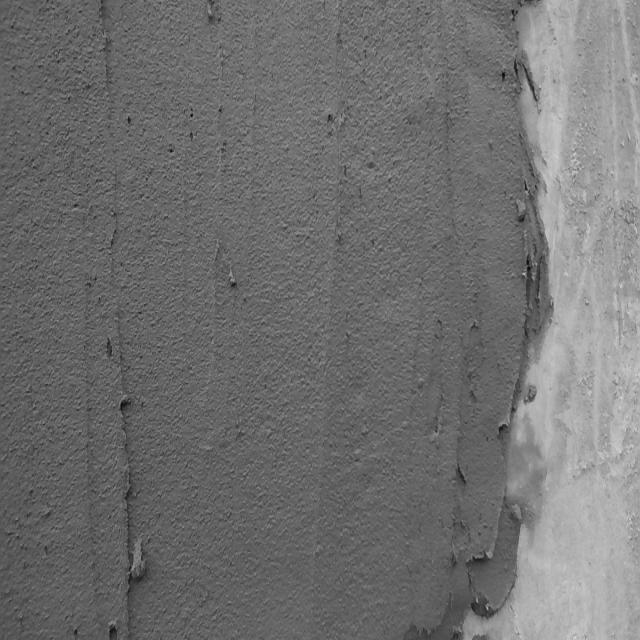trowels marks: (114, 306, 141, 640)
